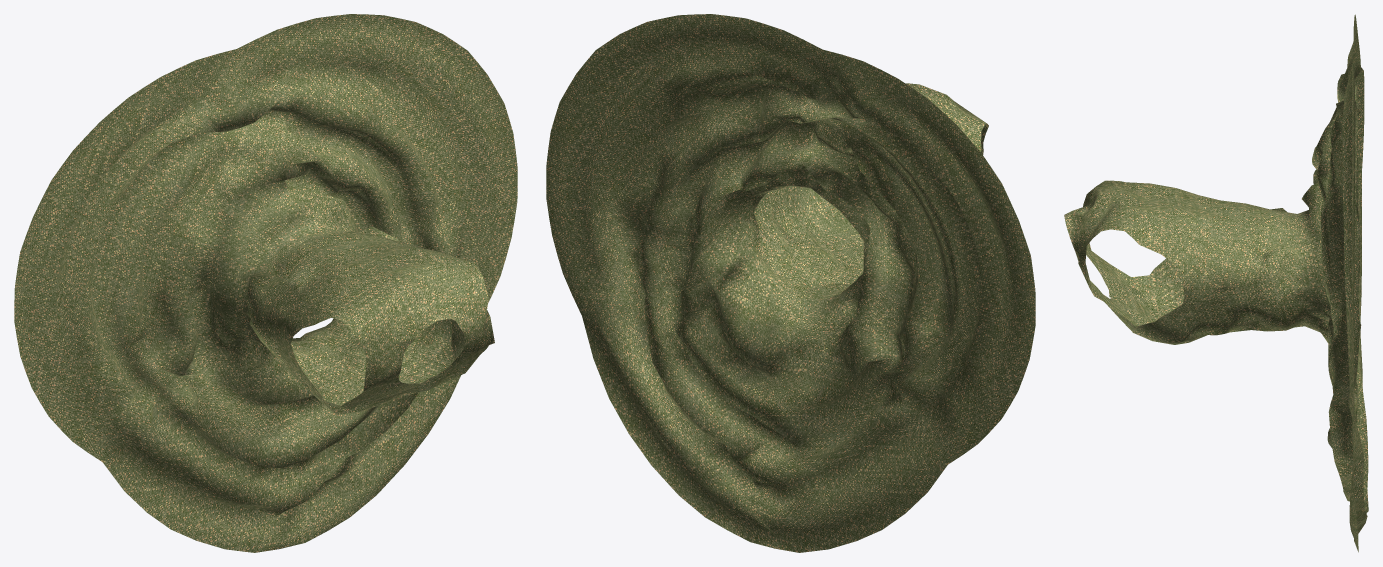
Rendered from dress1.obj.
3 renders of one model, left to right at view 1: azimuth 30°, elevation 25°; view 2: azimuth 150°, elevation 25°; view 3: azimuth 270°, elevation 25°, orthographic. The views are drawn at different scales.
Bounding box in the file's own units: 0.7739 × 0.7787 × 0.4437.
Materials: 1 (1 with a texture image).
